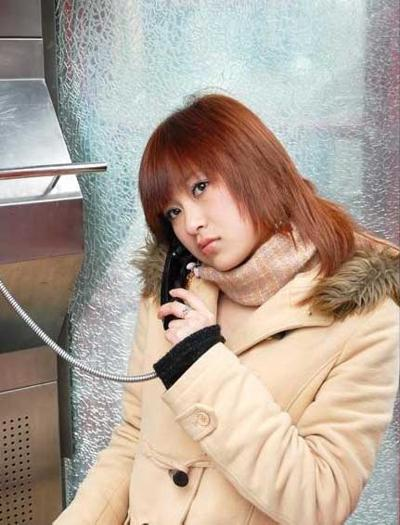person: (51, 93, 399, 524)
